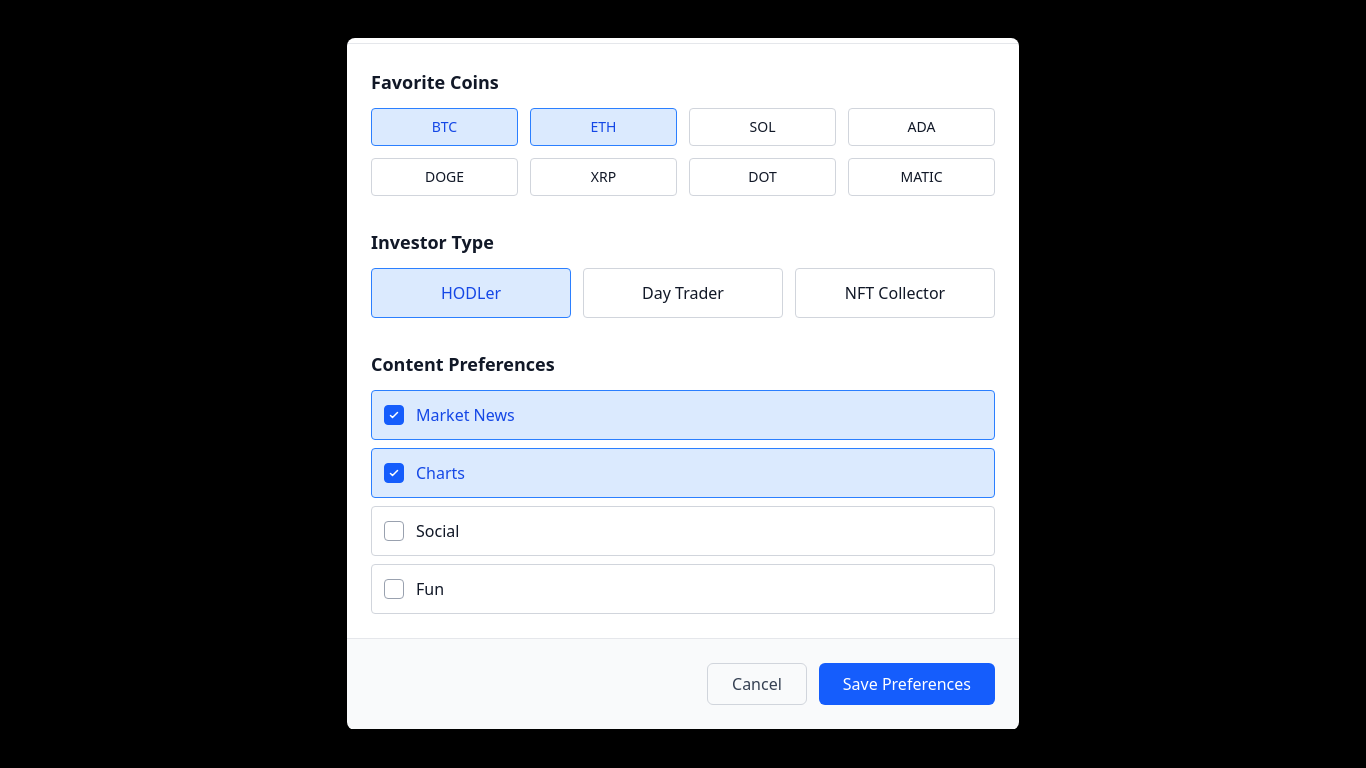
EditPreferencesModal › should handle API errors gracefully
The width and height of the screenshot is (1366, 768).
(page scrolled)
What coordinates should you click on to do the following:
click the button "Save Preferences"
I would click on:
 (907, 684)
Its box is [819,663,995,705].
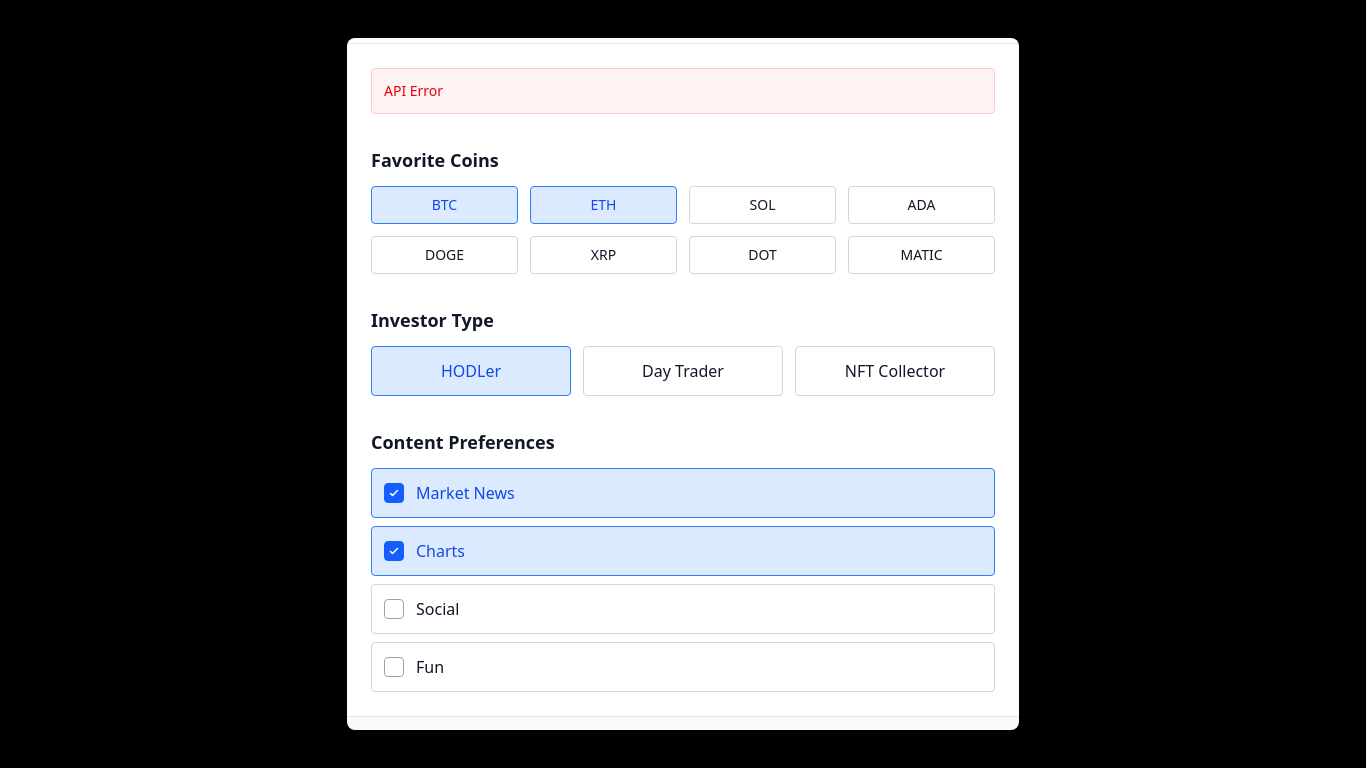
Expected: the text "API Error" is shown, [371,68,995,114]
